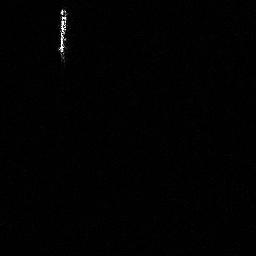ship: (56, 6, 69, 61)
